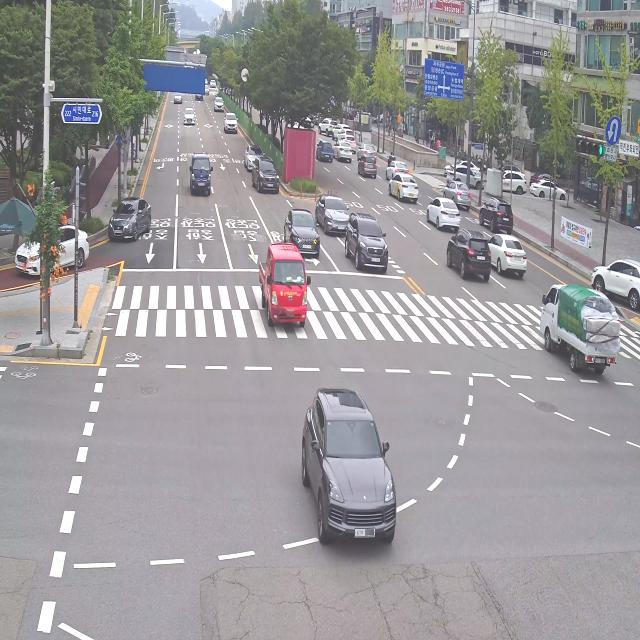Car: (286, 382, 401, 566), (13, 205, 93, 285), (342, 199, 397, 284), (581, 252, 640, 316), (437, 216, 487, 282), (104, 186, 158, 247), (281, 204, 329, 261), (484, 227, 532, 280), (469, 192, 516, 235), (421, 198, 468, 238), (314, 188, 351, 238), (244, 154, 282, 196), (350, 148, 384, 186), (389, 170, 423, 205), (446, 164, 486, 192), (528, 178, 570, 204), (494, 169, 529, 194), (312, 135, 337, 168), (443, 180, 470, 208), (446, 156, 482, 174), (181, 101, 204, 129), (526, 168, 559, 187), (242, 144, 264, 170), (384, 160, 411, 180), (332, 142, 353, 166), (223, 109, 242, 134), (211, 92, 227, 120), (494, 162, 522, 178), (318, 115, 336, 135), (340, 134, 356, 154), (332, 124, 349, 140), (337, 129, 354, 144), (172, 89, 185, 108), (192, 88, 202, 102)
Motorcycle: (386, 150, 395, 166)
Truck: (533, 275, 624, 395), (248, 225, 316, 351), (185, 150, 214, 202)
